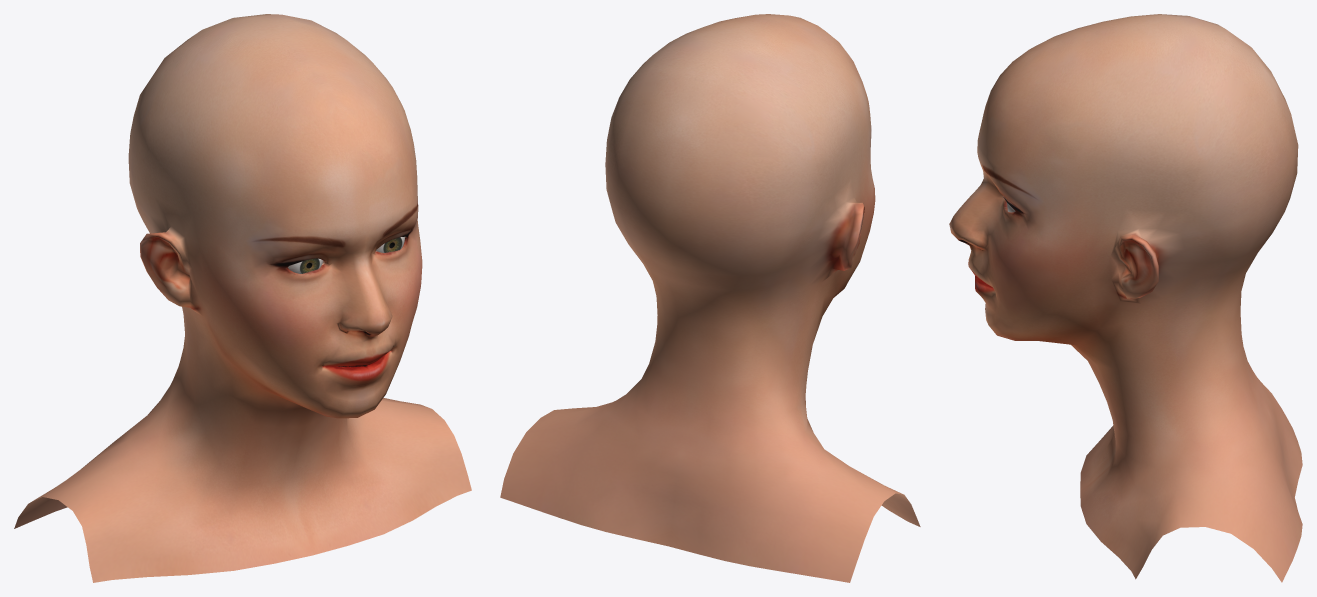
The model's file is hand-painted_woman_head_low_poly.glb.
The picture shows the model from 3 angles, left to right: view 1: azimuth 30°, elevation 25°; view 2: azimuth 150°, elevation 25°; view 3: azimuth 270°, elevation 25°; orthographic projection. The views are drawn at different scales.
Parts seen in each view (by area): view 1: Merged_FBM_01_eyes1; view 2: Merged_FBM_01_eyes1; view 3: Merged_FBM_01_eyes1.
Part boxes in pixels (<box>): Merged_FBM_01_eyes1: <box>14,14,471,582</box>; Merged_FBM_01_eyes1: <box>500,14,920,582</box>; Merged_FBM_01_eyes1: <box>949,14,1302,582</box>.
Size of the model in its own units: 0.2543 by 0.3201 by 0.2167.
2 materials, 2 textured.
